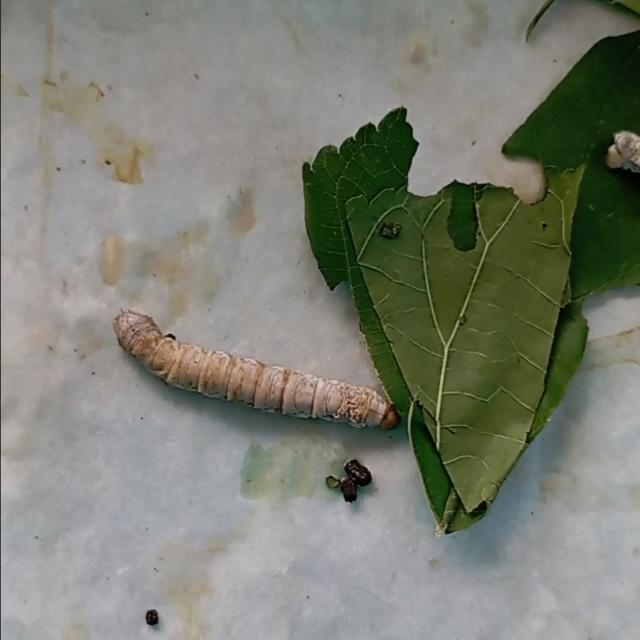Grasserie: (101, 295, 415, 458)
